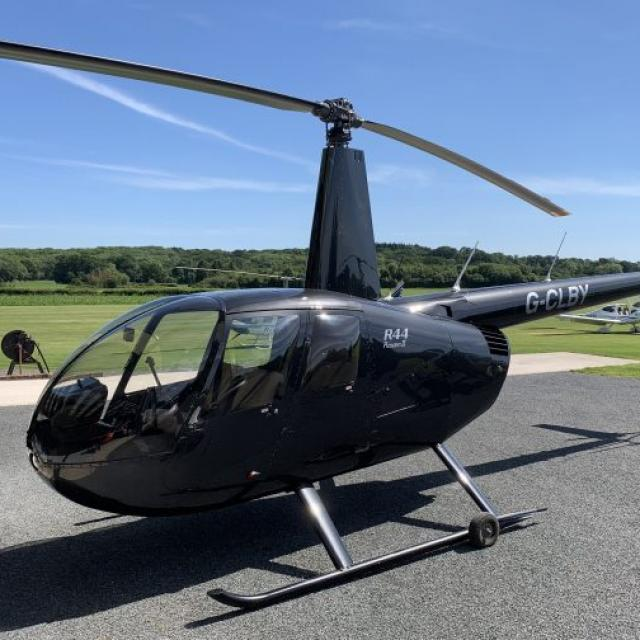helicopter: (1, 84, 640, 634)
